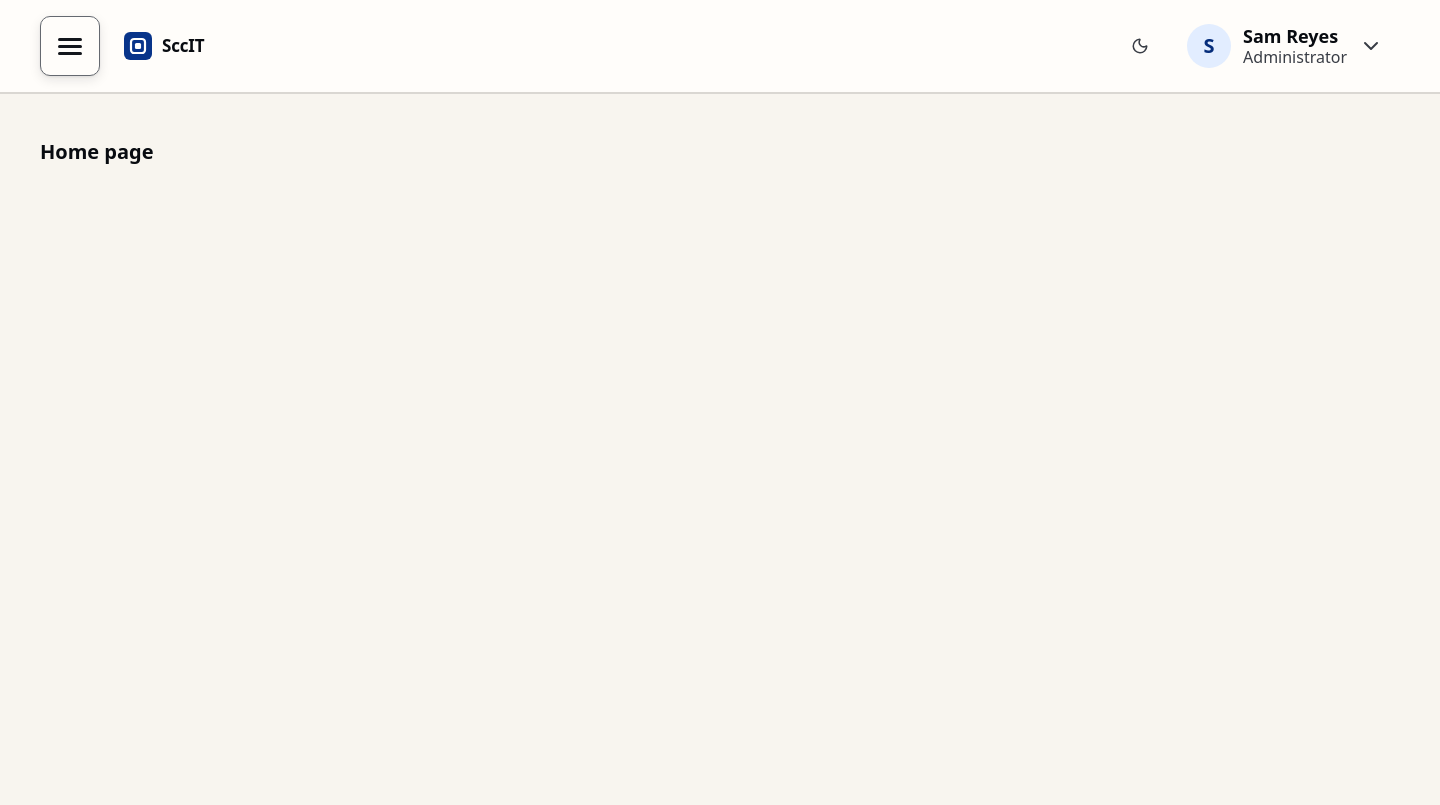
Test: opening and closing › closes with the close button, and gives the scroll back
The width and height of the screenshot is (1440, 805).
Click the button named "open navigation menu". click: [70, 46]
box: x1=40 y1=16 x2=100 y2=76
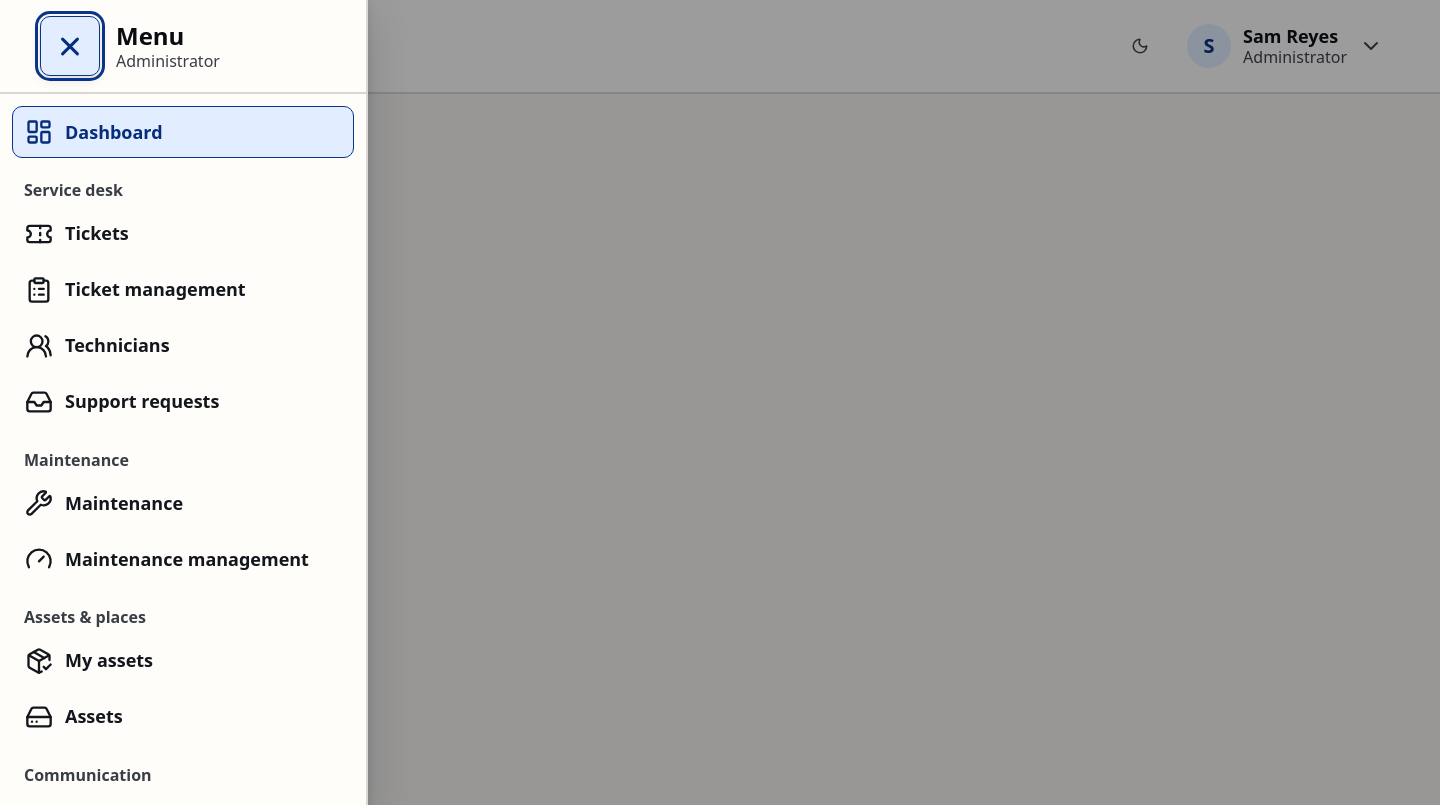
Click the button named "close navigation menu". click: [70, 46]
box: x1=40 y1=16 x2=100 y2=76
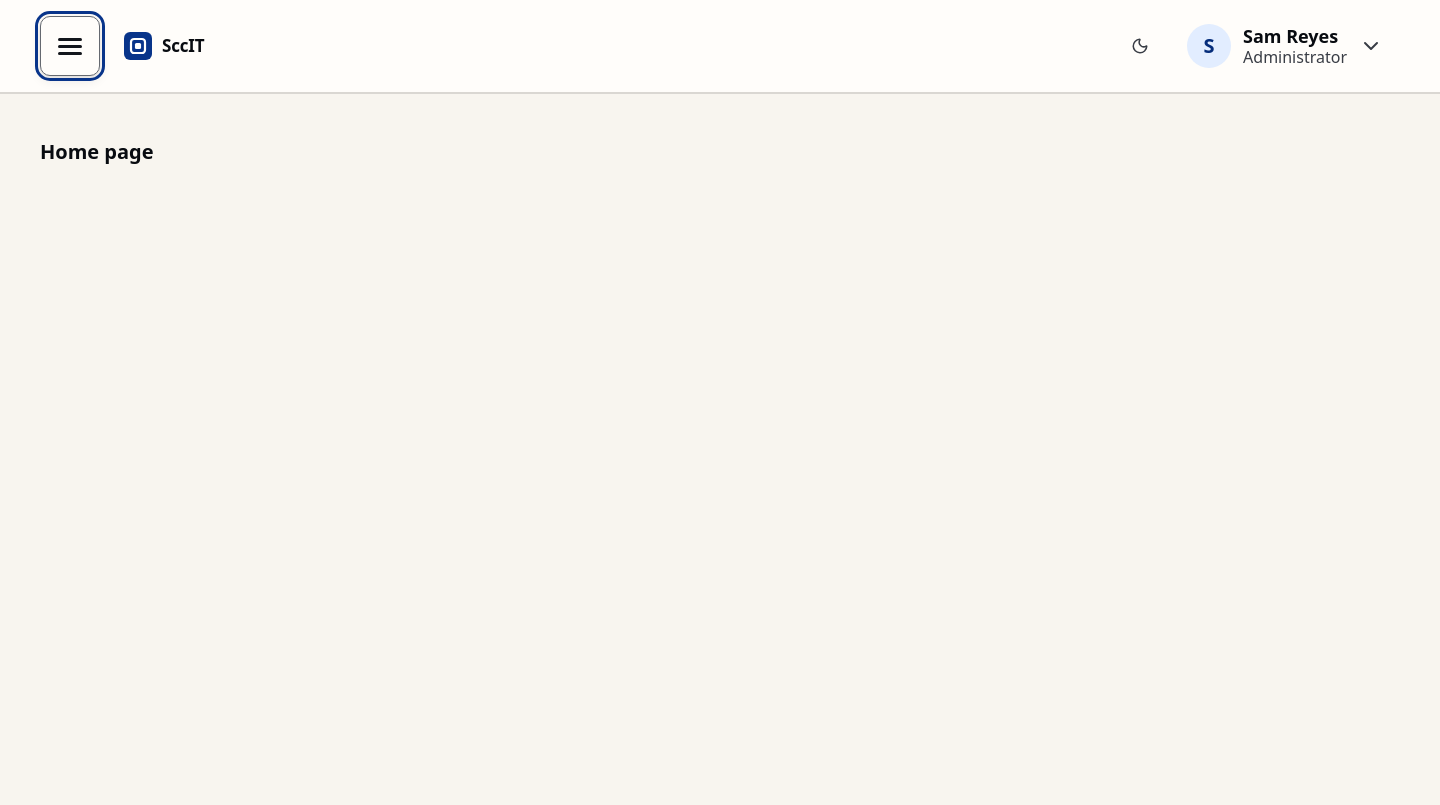
Expected: the button named "open navigation menu" is collapsed, x1=40 y1=16 x2=100 y2=76
